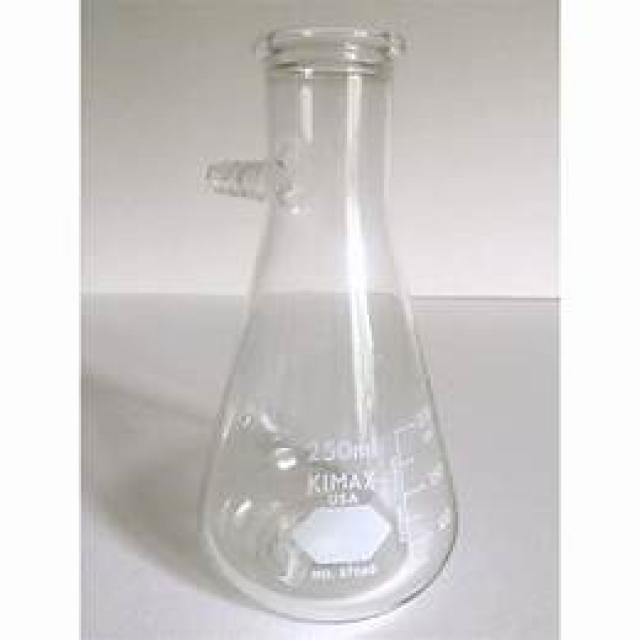Titrarion: (190, 26, 473, 620)
